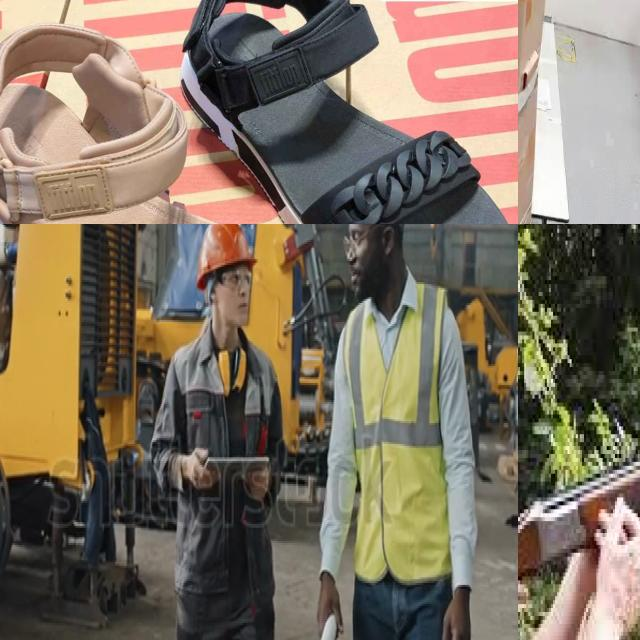Ear-protection: (211, 342, 248, 401)
Sandals: (158, 0, 518, 224), (0, 0, 357, 224)
glasses: (213, 267, 259, 296), (340, 224, 374, 259)
head_helmet: (194, 224, 255, 271)
person: (308, 224, 479, 640), (157, 224, 298, 640)
vest: (343, 279, 455, 586)
